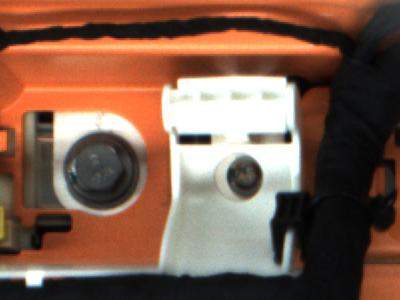nut_b: (60, 136, 144, 204)
